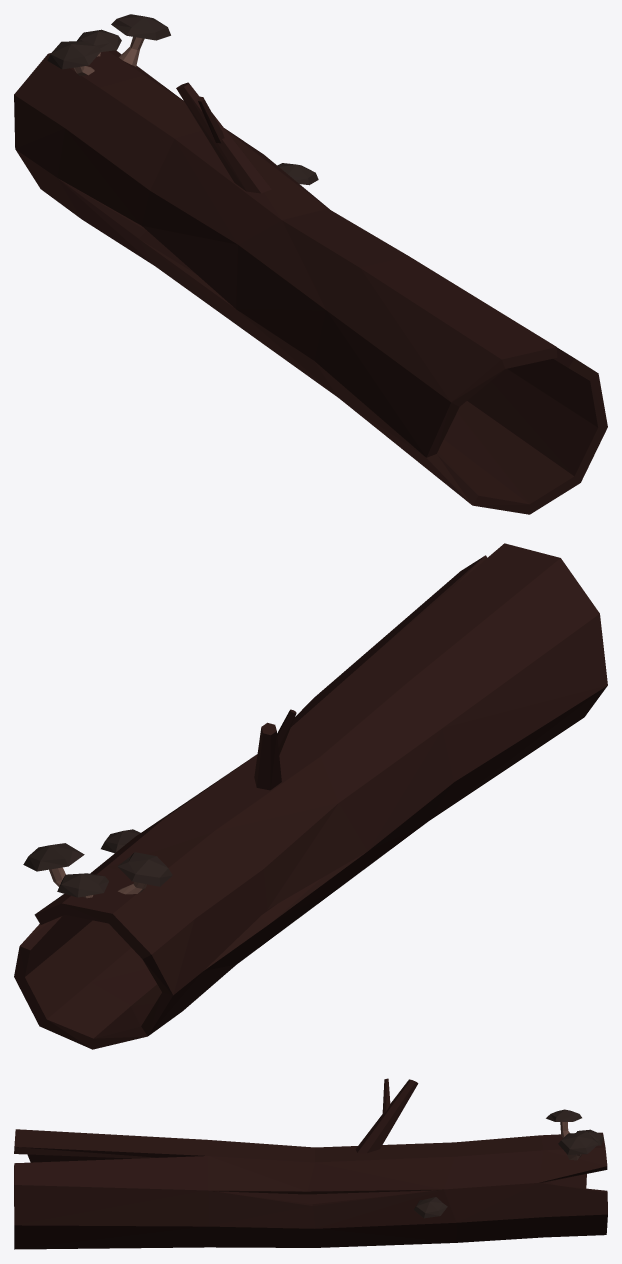
Rendered from WoodLog.fbx.
3 views of the same model, one above another, from view 1: azimuth 30°, elevation 25°; view 2: azimuth 150°, elevation 25°; view 3: azimuth 270°, elevation 25° (orthographic). The views are drawn at different scales.
Parts seen in each view (by area): view 1: WoodLog; view 2: WoodLog; view 3: WoodLog.
Part boxes in pixels (<box>): WoodLog: <box>14,14,607,514</box>; WoodLog: <box>14,543,607,1049</box>; WoodLog: <box>14,1078,607,1249</box>.
Size of the model in its own units: 121 by 509 by 143.
